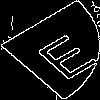E: (25, 25, 100, 82)
